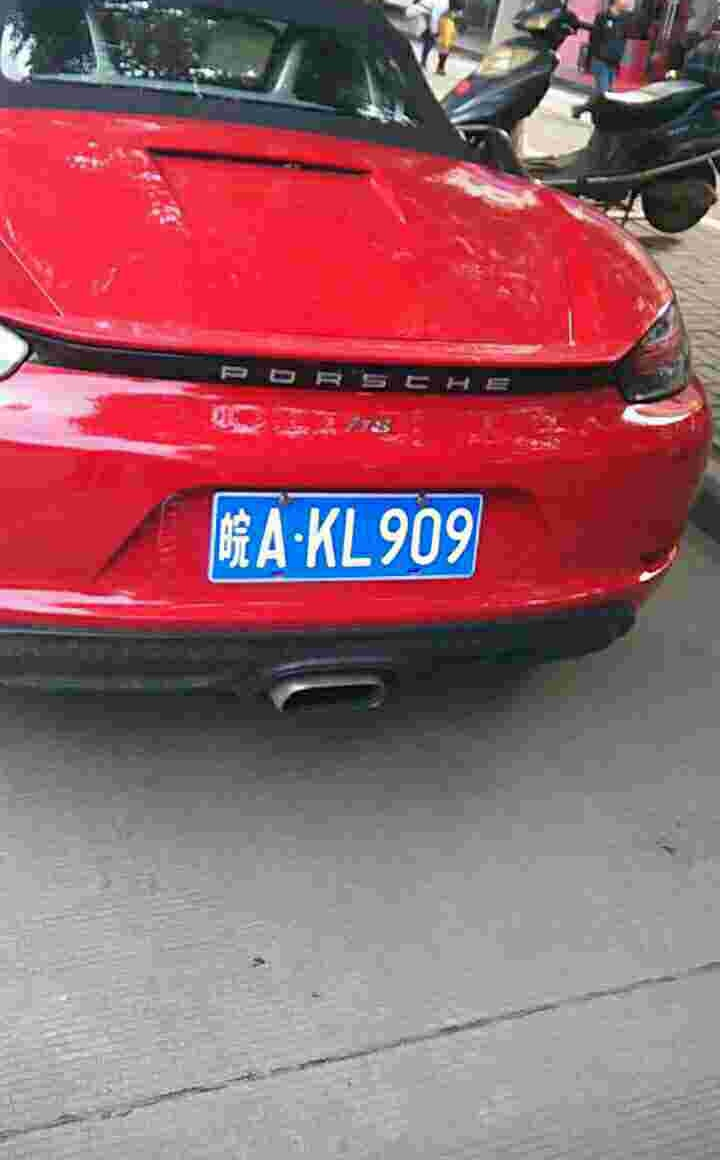license_plate: (206, 493, 474, 577)
